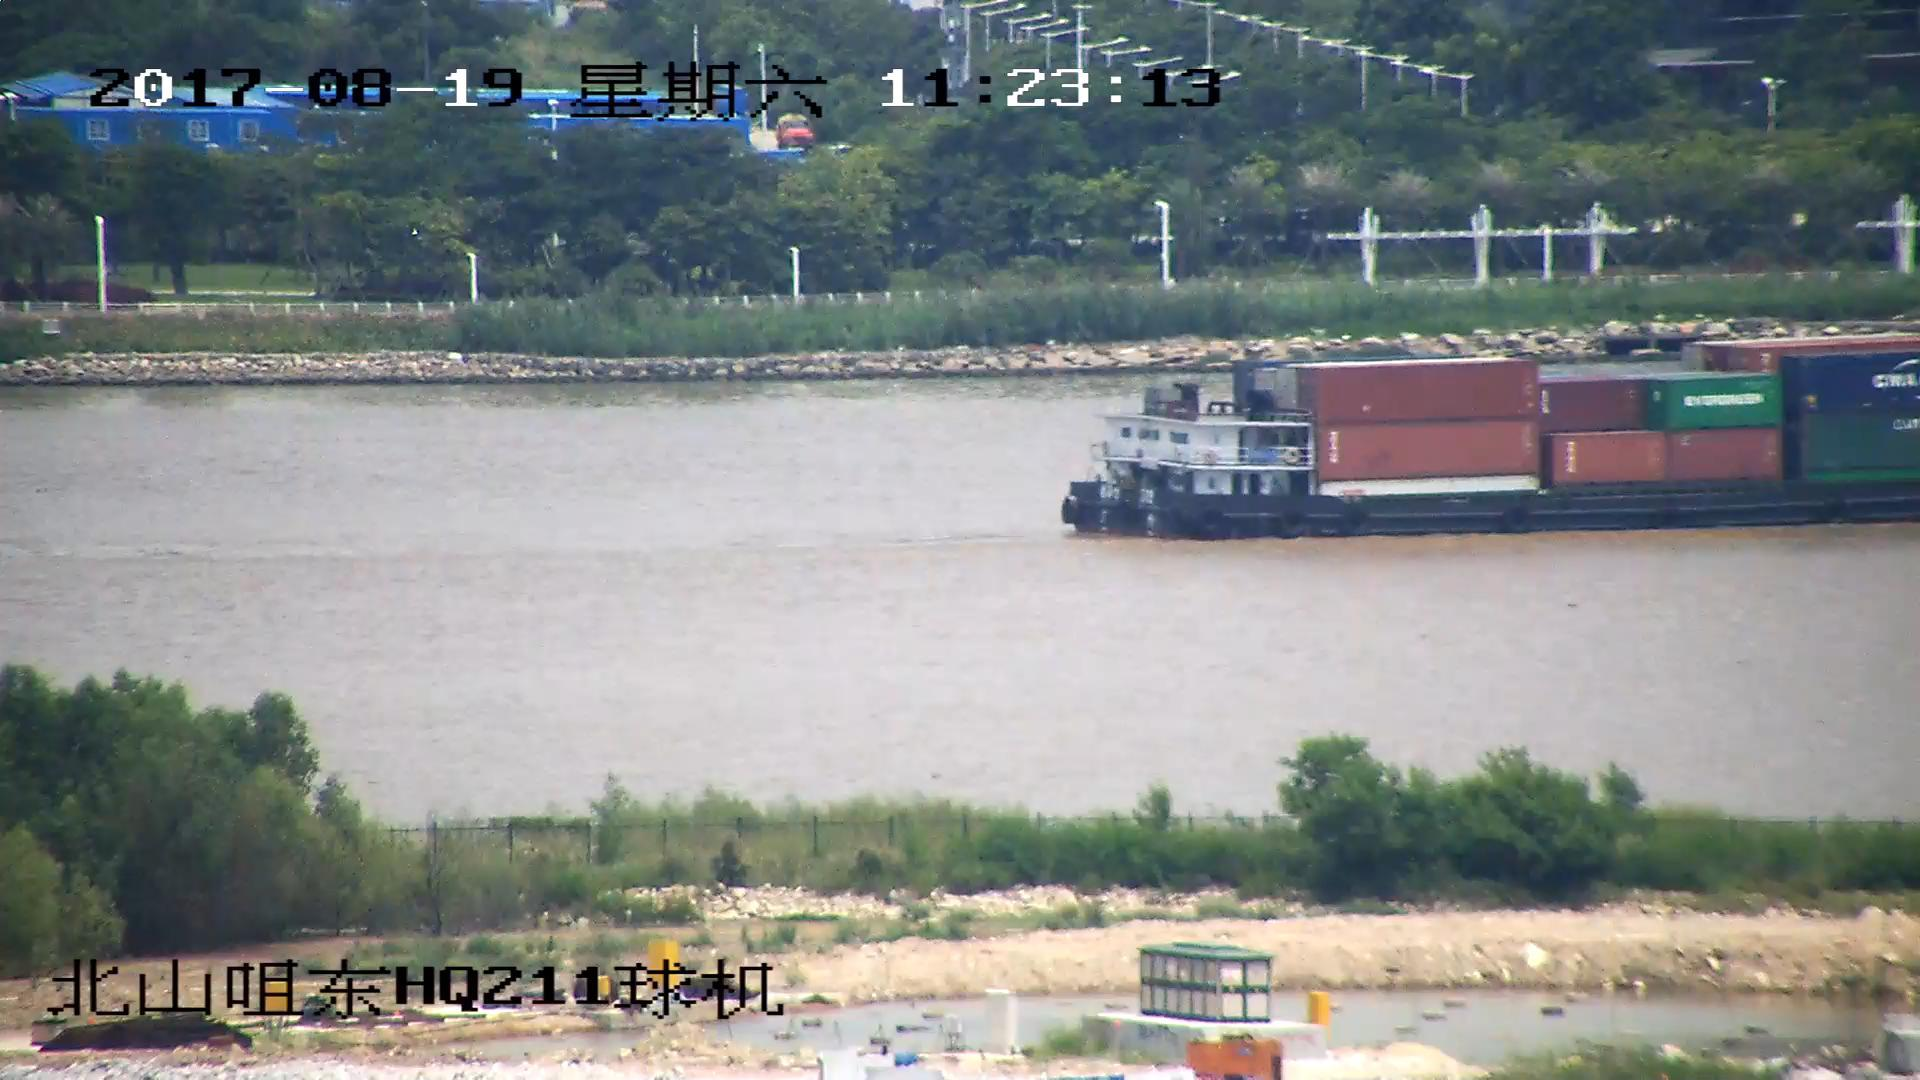Ship: (1060, 342, 1920, 533)
